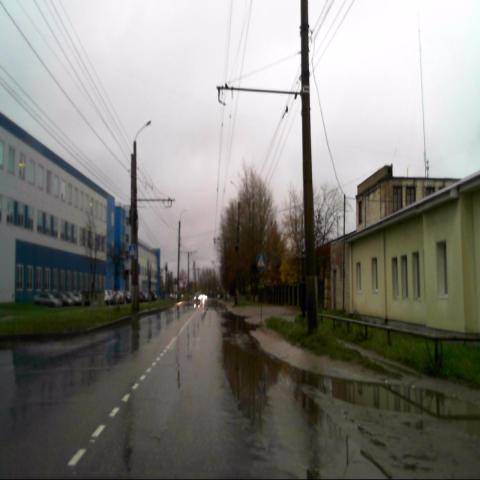5_19_1: (255, 253, 266, 271), (127, 242, 137, 258)
